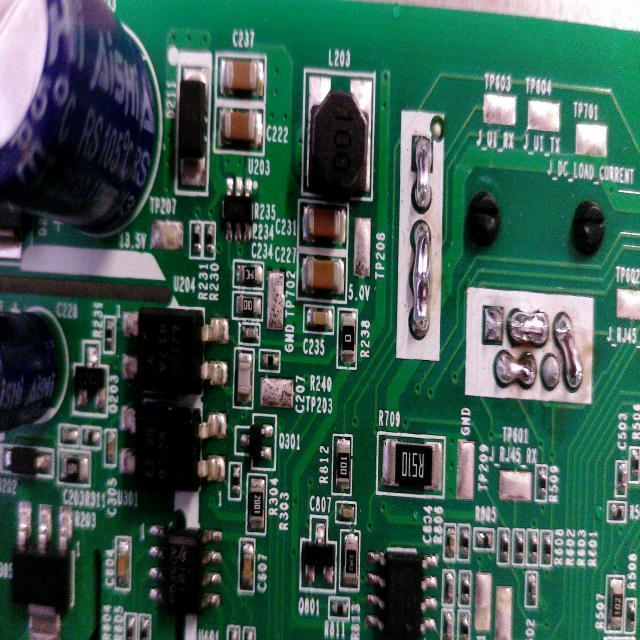Soldering shorted: (554, 307, 590, 396), (409, 218, 434, 346), (492, 348, 540, 396), (508, 301, 550, 350), (412, 134, 434, 216)
